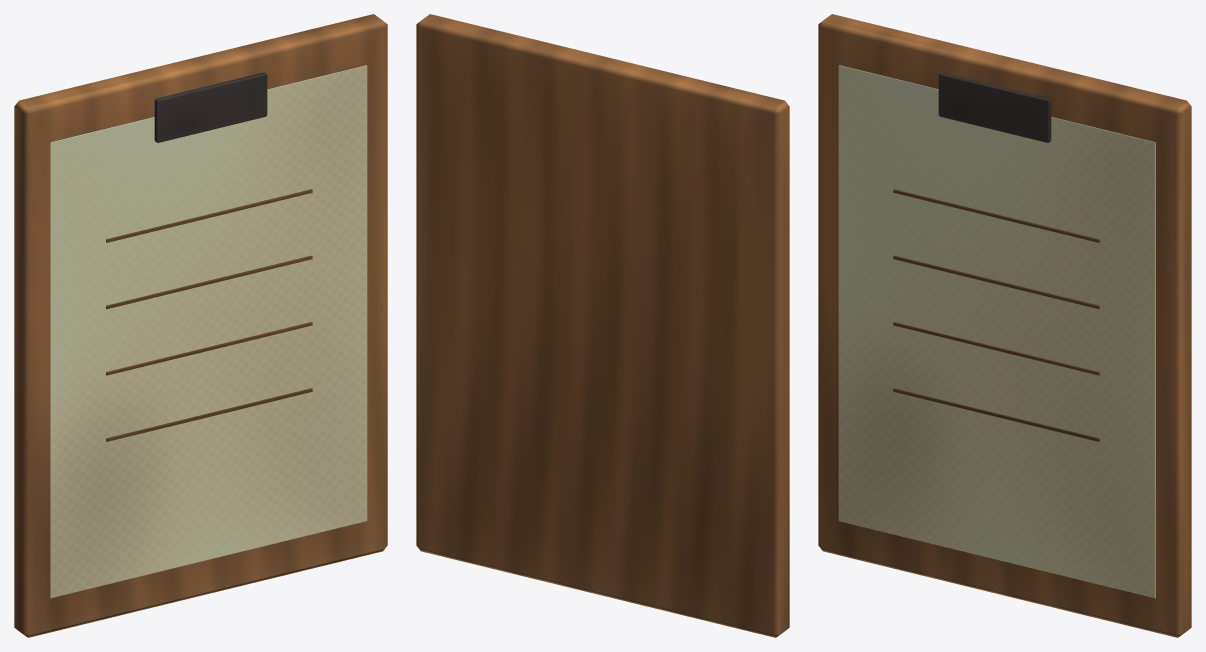
File: Hold_Clipboard.fbx
The picture shows the model from 3 angles, left to right: view 1: azimuth 30°, elevation 25°; view 2: azimuth 150°, elevation 25°; view 3: azimuth 330°, elevation 25°; orthographic projection.
Visible parts, largest first — view 1: Hold_Clipboard; view 2: Hold_Clipboard; view 3: Hold_Clipboard.
Boxes of the visible parts, <box> form: Hold_Clipboard: <box>14,14,387,637</box>; Hold_Clipboard: <box>416,14,789,637</box>; Hold_Clipboard: <box>818,14,1191,637</box>.
Bounding box in the file's own units: 0.23 × 0.32 × 0.02.
Materials: 2 (2 with a texture image).
